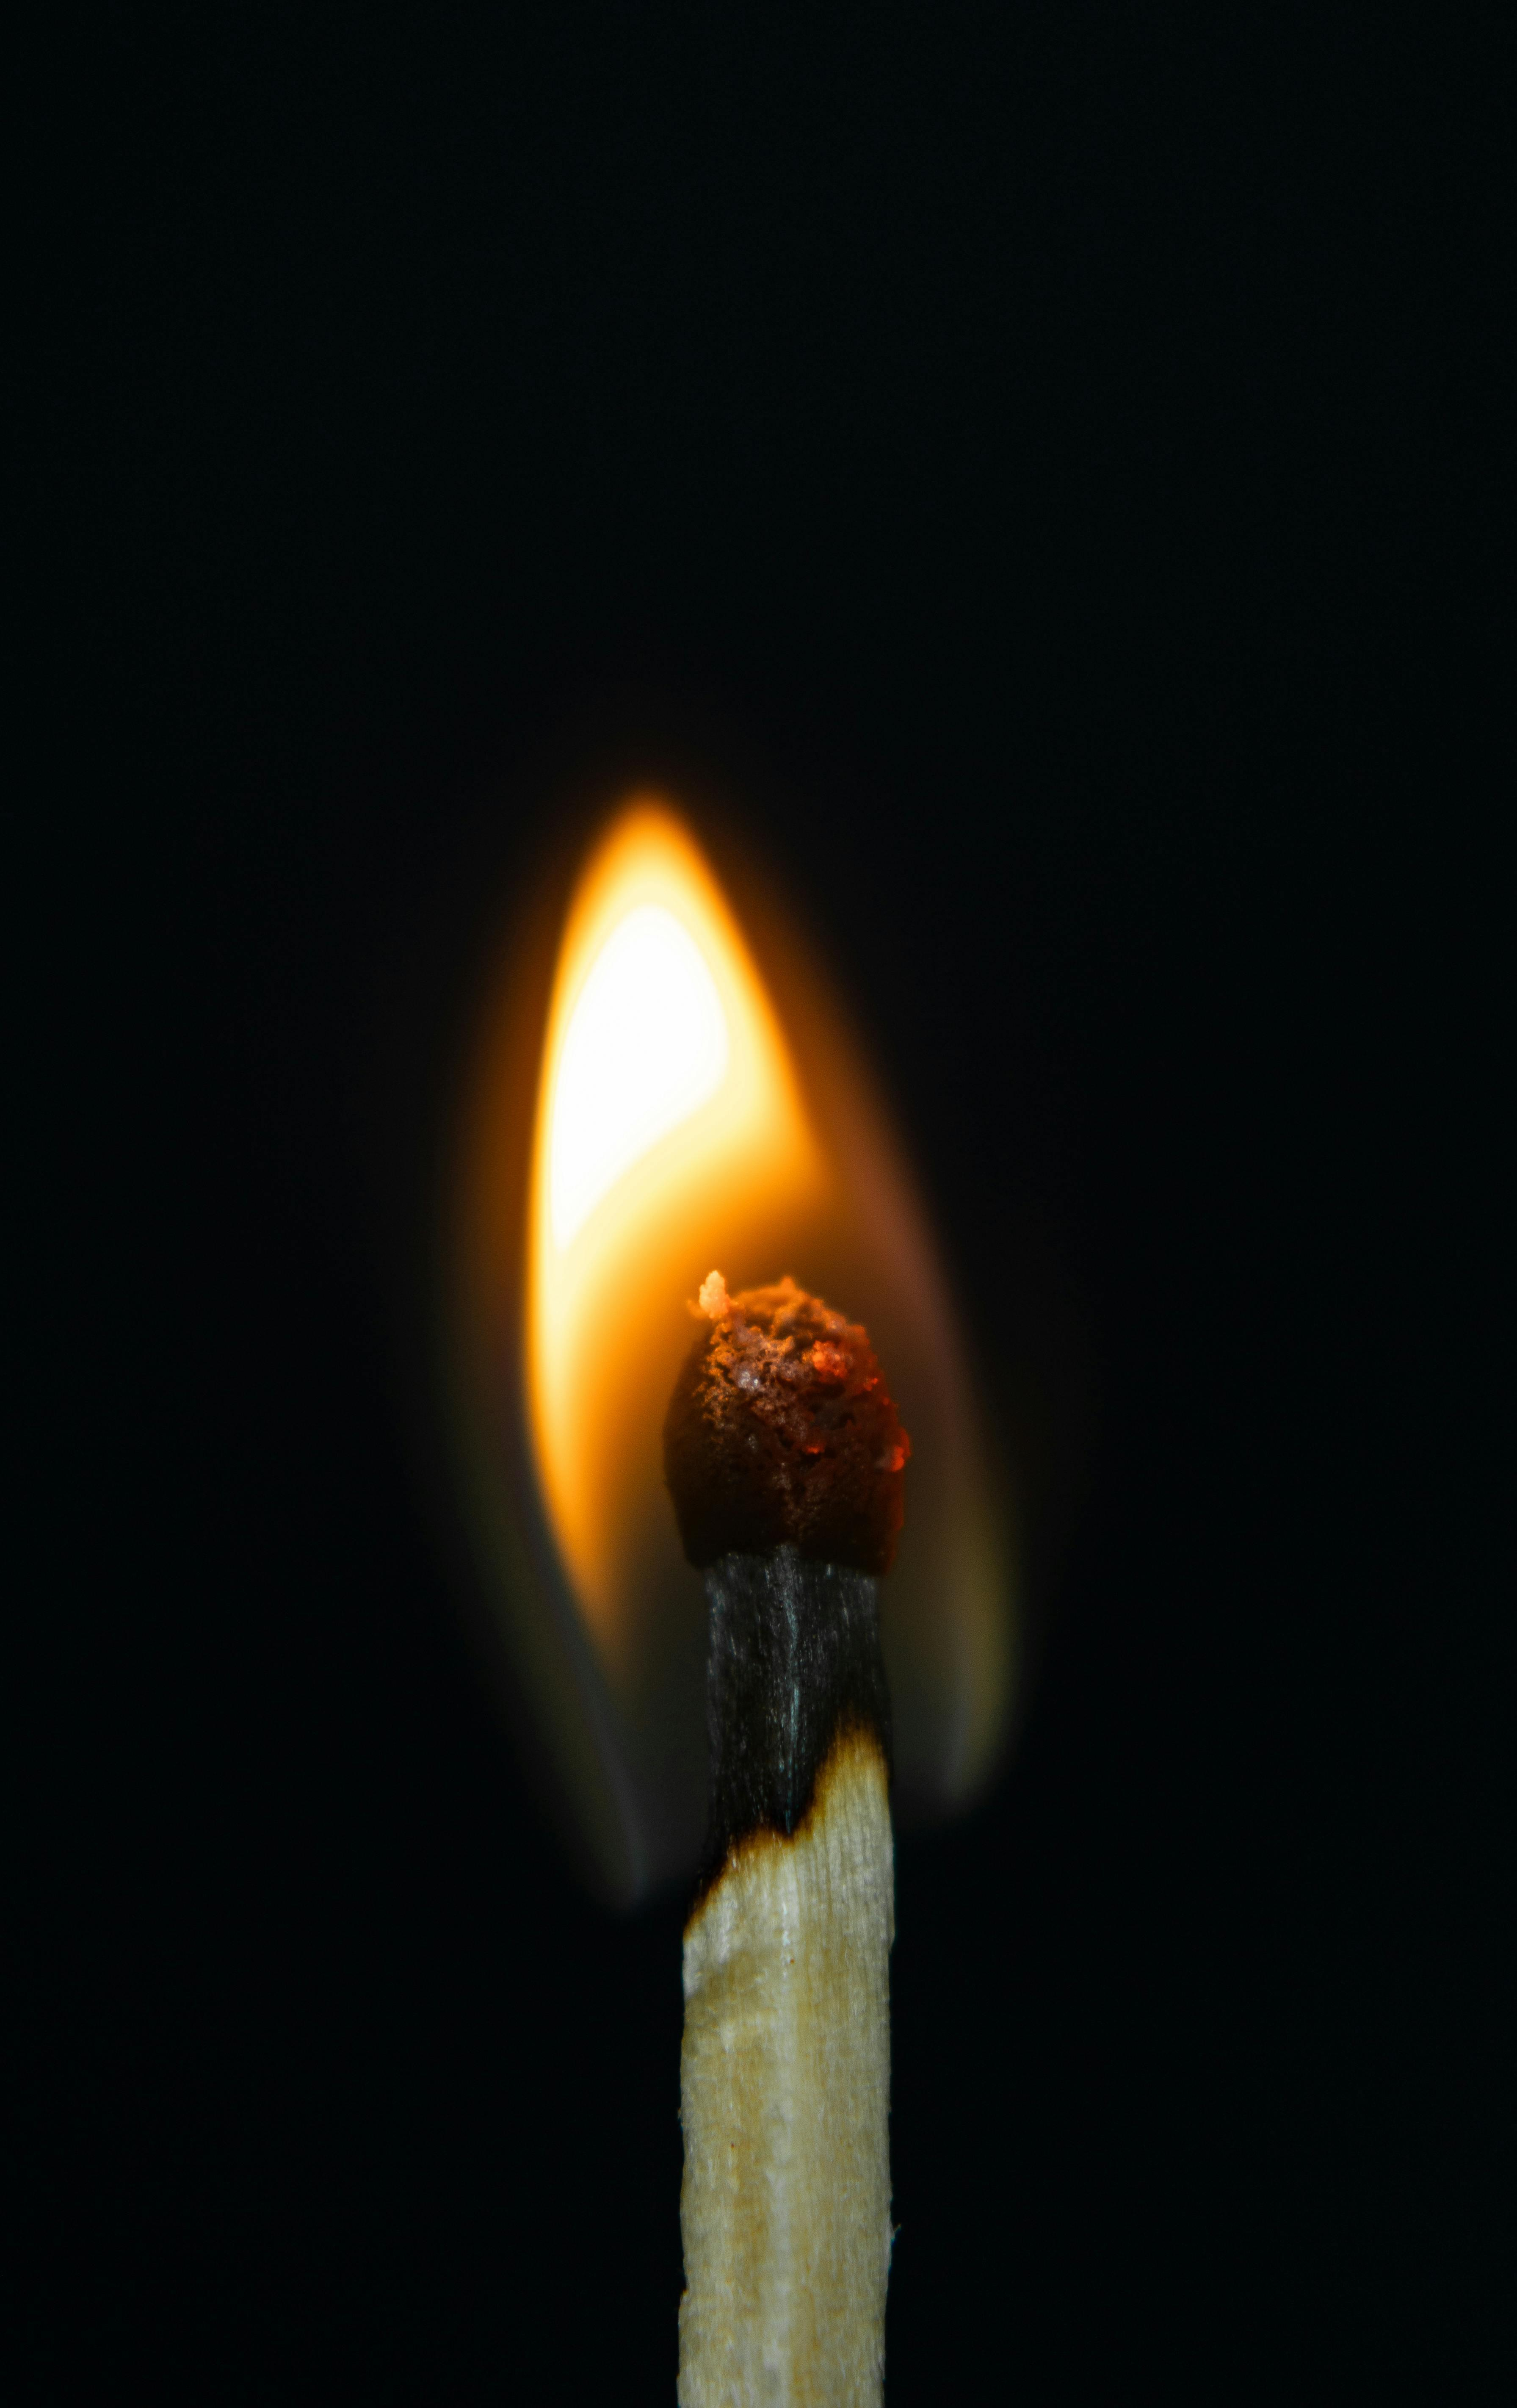Fire: (484, 788, 1139, 1886)
